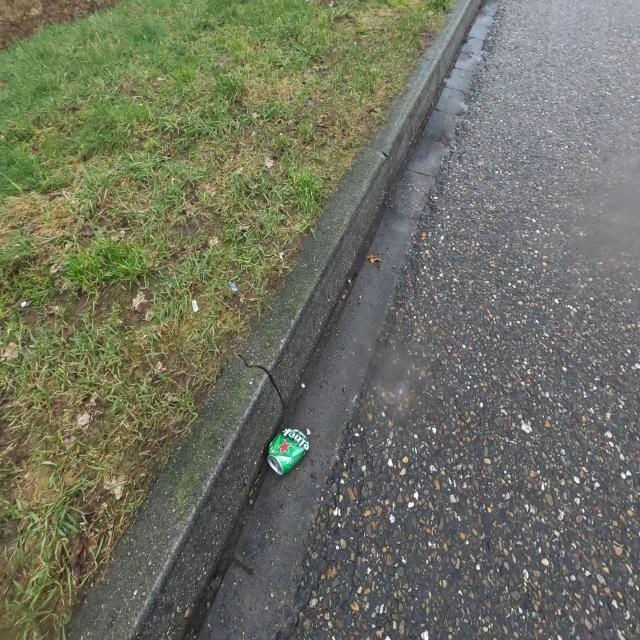Can-Metal: (266, 426, 310, 477)
